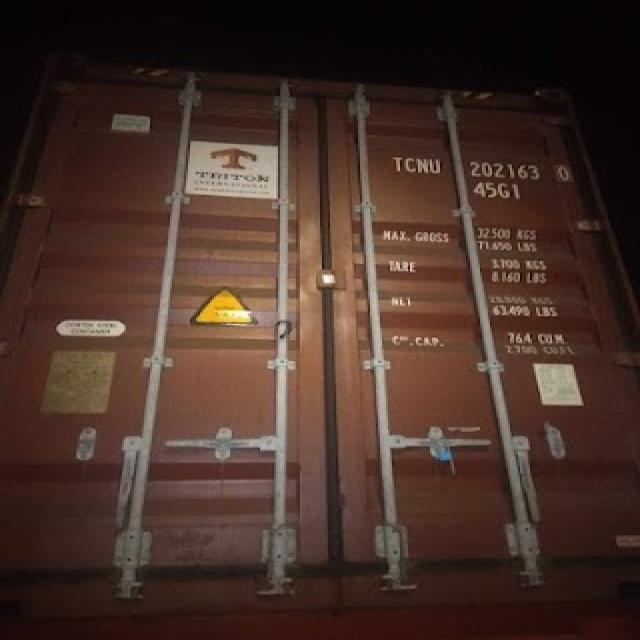ISO: (473, 182, 522, 200)
container_number: (396, 157, 570, 180)
